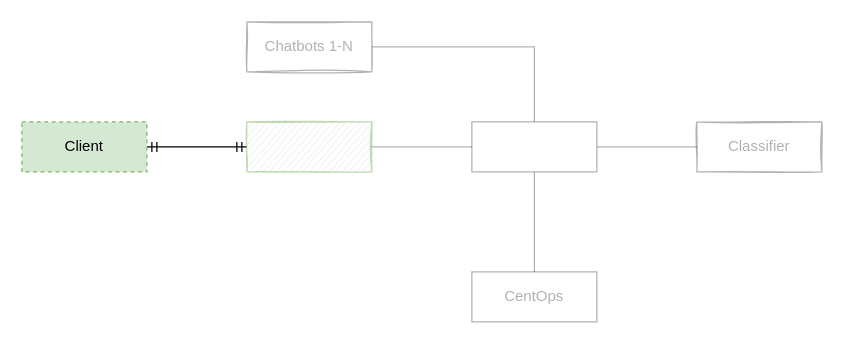
Some shapes in this 844 by 344 pixel diagram are drawn without their labels. Each missing label, with the centre of its shape:
Chatbot: point (309, 146)
DMR: point (534, 146)
